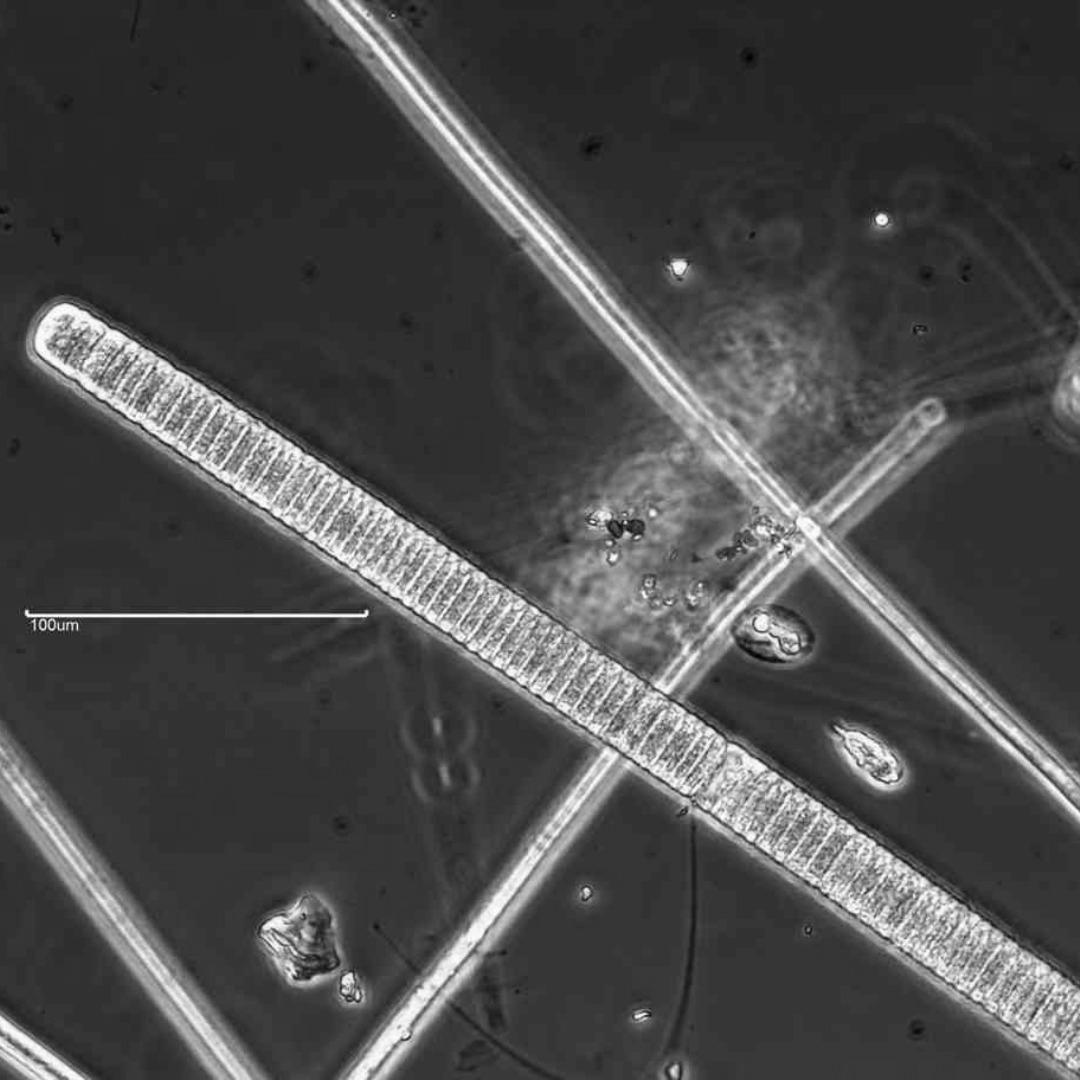trichodesmium_erythraeum: (30, 299, 1079, 1077)
